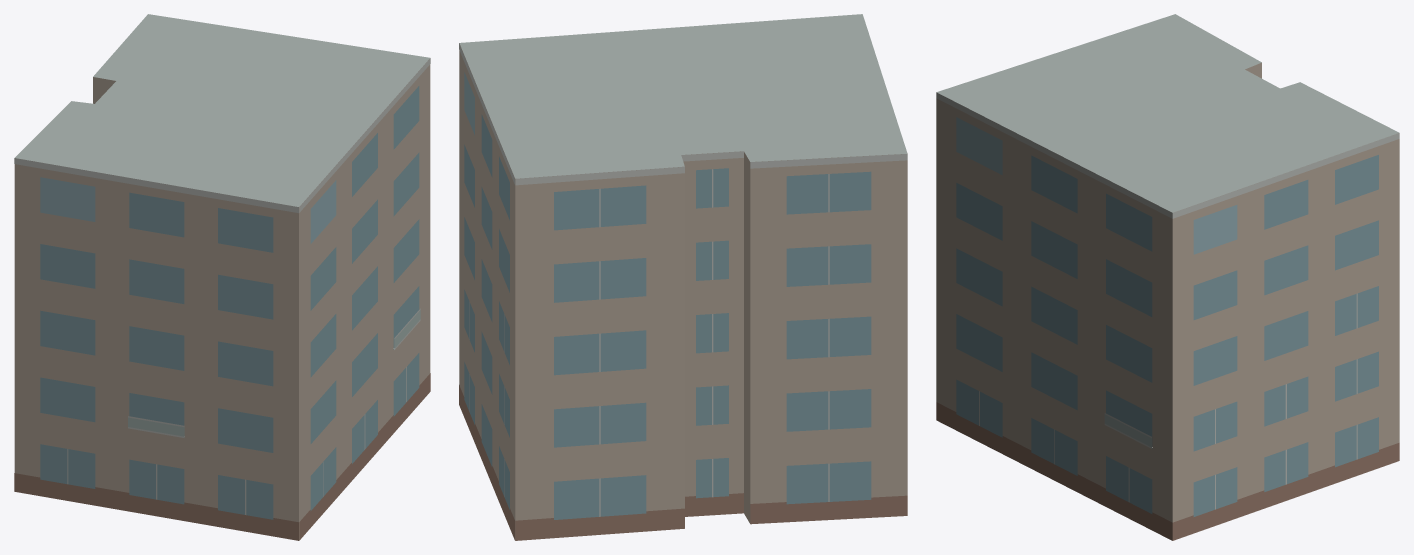
The model's file is survey-upis-32745074.glb.
The picture shows the model from 3 angles, left to right: view 1: azimuth 30°, elevation 25°; view 2: azimuth 150°, elevation 25°; view 3: azimuth 270°, elevation 25°; orthographic projection. The views are drawn at different scales.
Parts seen in each view (by area): view 1: survey-upis-32745074.tmp; view 2: survey-upis-32745074.tmp; view 3: survey-upis-32745074.tmp.
Part boxes in pixels (box(x1,y1,x2,y2)): survey-upis-32745074.tmp: box(14, 14, 430, 540); survey-upis-32745074.tmp: box(459, 14, 907, 540); survey-upis-32745074.tmp: box(936, 14, 1399, 540).
Size of the model in its own units: 17.36 by 13.35 by 17.1.
